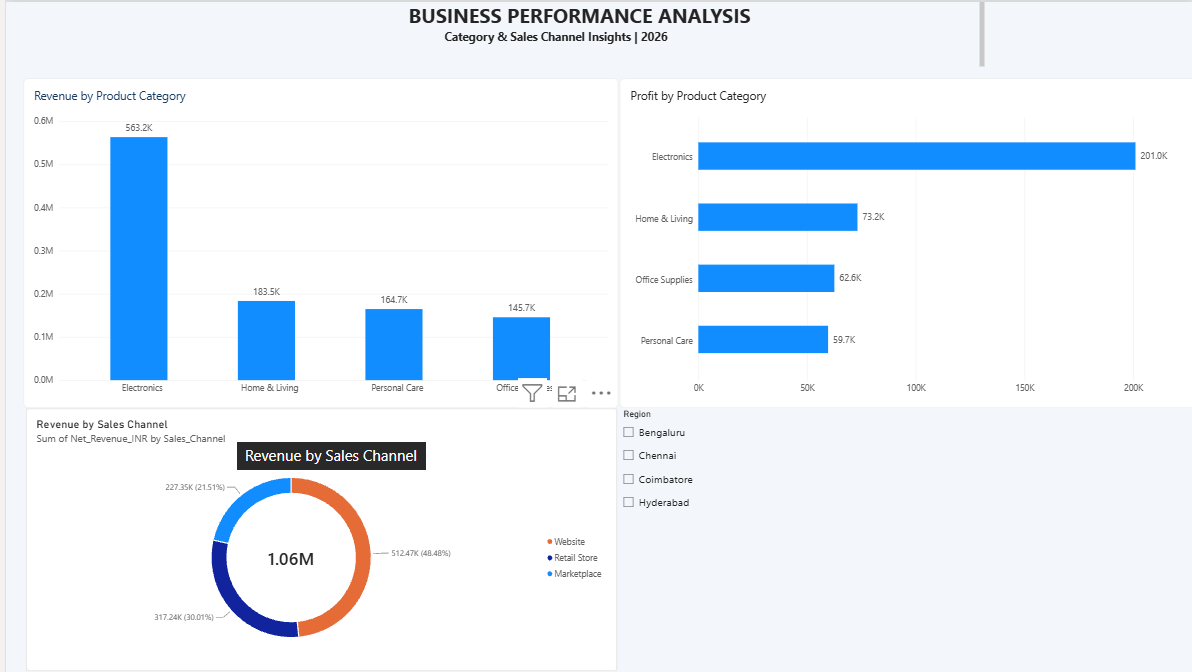

This screenshot's page, from the dashboard's own definition file:
{"tool":"powerbi","page":{"name":"Page 2","canvas":[1920,1080],"ordinal":1},"visuals":[{"type":"clusteredColumnChart","title":"Revenue by Product Category","fields":{"Category":["business_orders_2026.Category"],"Y":["Sum(business_orders_2026.Net_Revenue_INR)"]},"box":[28,124,960,532],"z":0},{"type":"clusteredBarChart","title":"Profit by Product Category","fields":{"Category":["business_orders_2026.Category"],"Y":["Sum(business_orders_2026.Profit_INR)"]},"box":[990,124,932,532],"z":1000},{"type":"donutChart","title":"Revenue by Sales Channel","fields":{"Category":["business_orders_2026.Sales_Channel"],"Y":["Sum(business_orders_2026.Net_Revenue_INR)"]},"box":[31.6,655.3,955.3,423.7],"z":2000},{"type":"slicer","fields":{"Values":["business_orders_2026.Region"]},"box":[989,655,931,424],"z":3000},{"type":"textbox","box":[100,100,300,300],"z":4000},{"type":"textbox","box":[100,100,300,300],"z":5000},{"type":"textbox","box":[100,100,300,300],"z":6000},{"type":"textbox","box":[181.6,0,1397.9,123.1],"z":7000}]}

Visuals, with their boxes in screenshot pixels (x1, y1, x2, y2), scaled from the page's 1920x1080 canvas onto the 1192x672 screenshot:
"Revenue by Product Category" clusteredColumnChart: Rect(17, 77, 613, 408)
"Profit by Product Category" clusteredBarChart: Rect(615, 77, 1191, 408)
"Revenue by Sales Channel" donutChart: Rect(20, 408, 613, 671)
slicer - business_orders_2026.Region: Rect(614, 408, 1191, 671)
textbox: Rect(62, 62, 248, 249)
textbox: Rect(62, 62, 248, 249)
textbox: Rect(62, 62, 248, 249)
textbox: Rect(113, 0, 981, 77)
